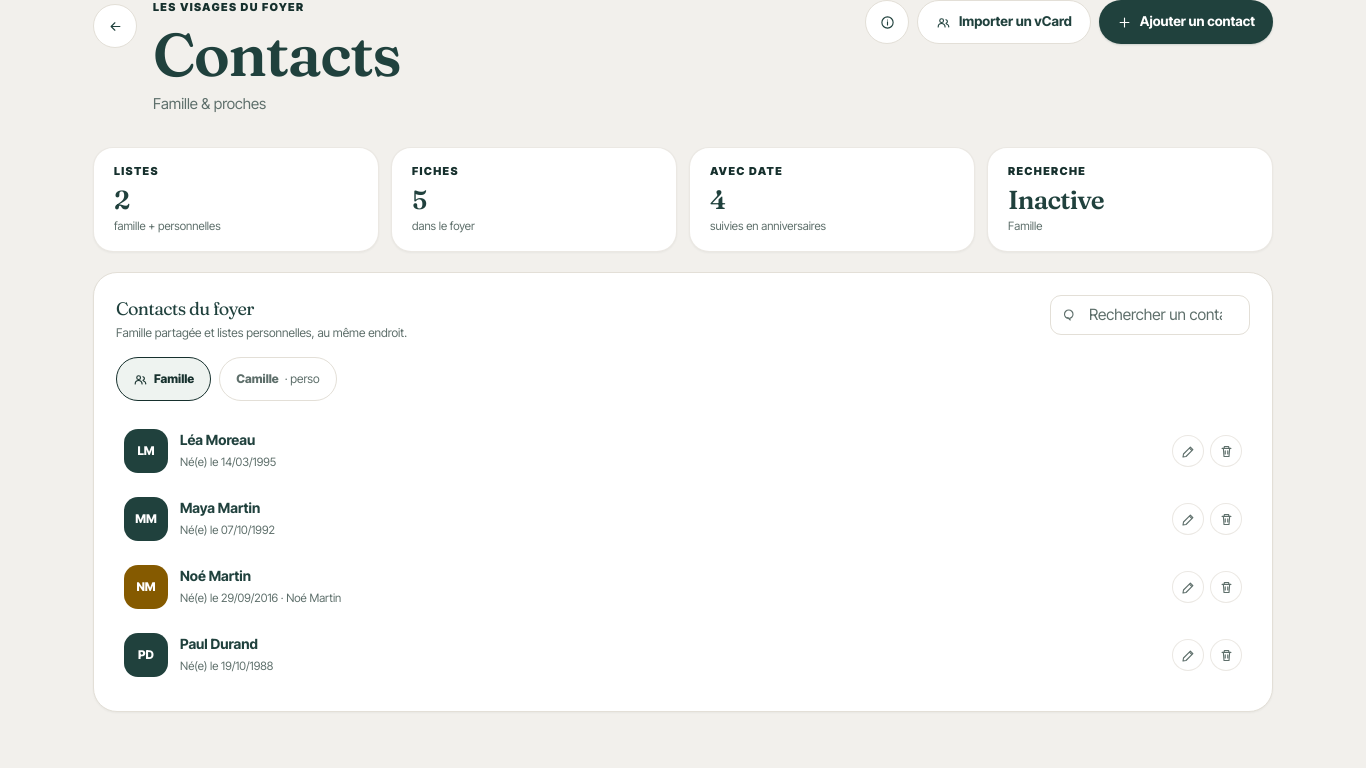
Test case: ContactsPage › avertit d’un doublon probable sans bloquer la soumission
Expected: the text "Maya Martin" is shown, [180,499,260,516]
Click the button "Ajouter un contact" at {"x": 1186, "y": 22}, box [1099,0,1273,44]
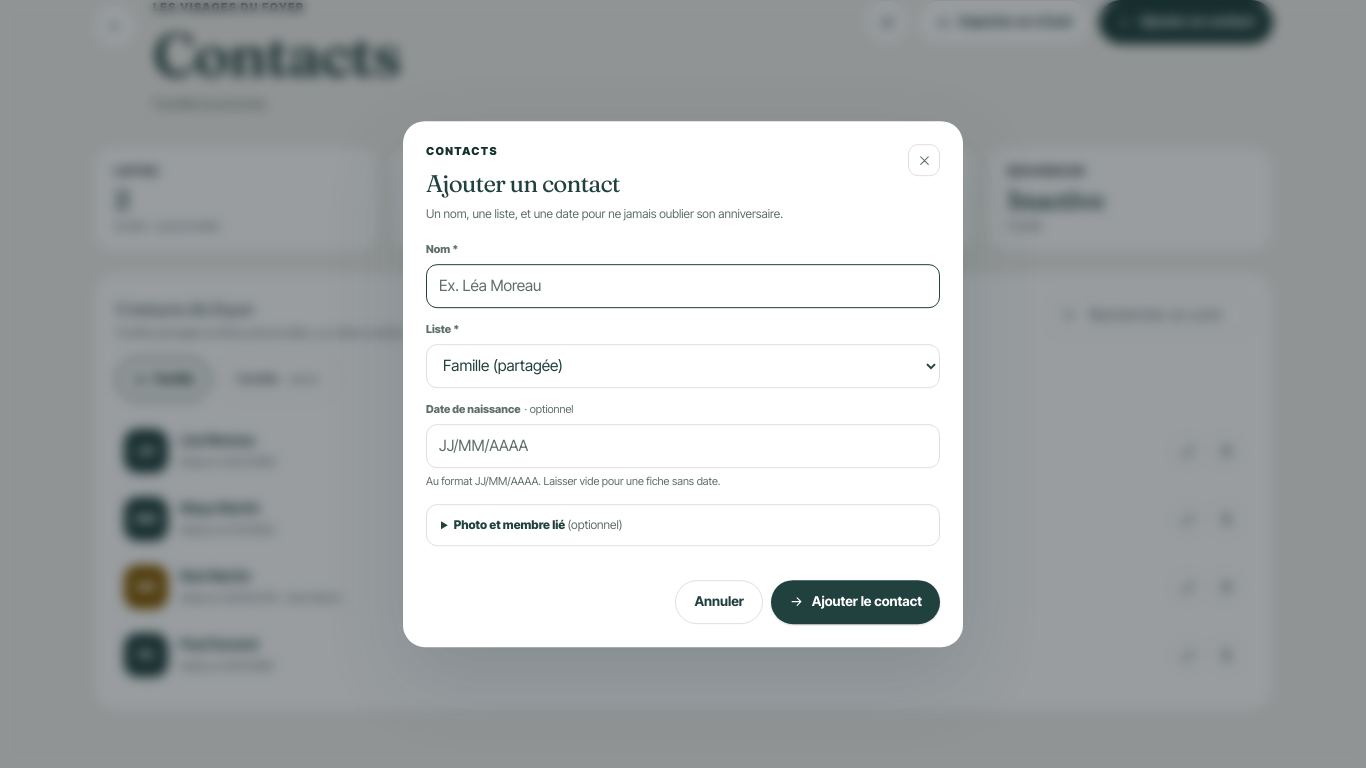
Type "Maya Martin" into the field labelled "Nom *" at {"x": 683, "y": 286}, box [426,264,940,308]
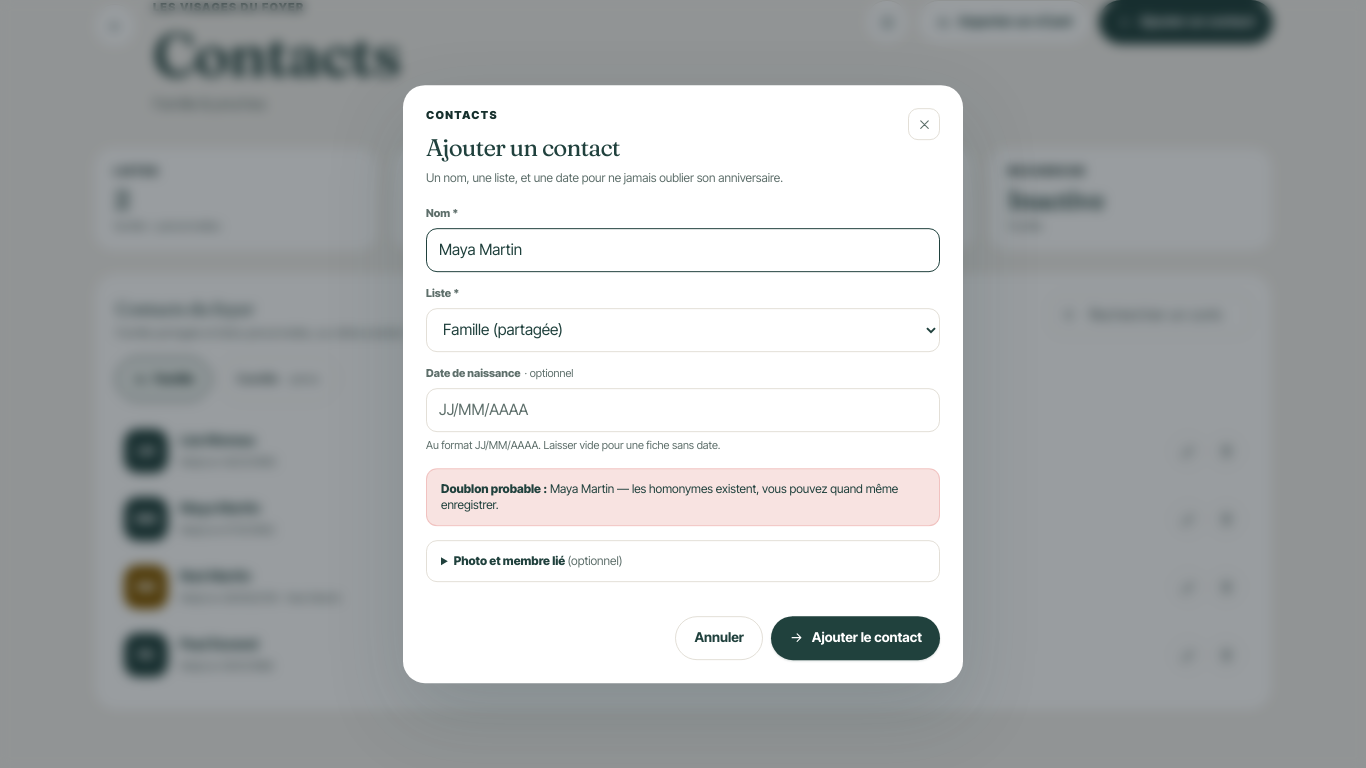
Type "07/10/1992" into the field labelled "Date de naissance· optionnel" at {"x": 683, "y": 410}, box [426,388,940,432]
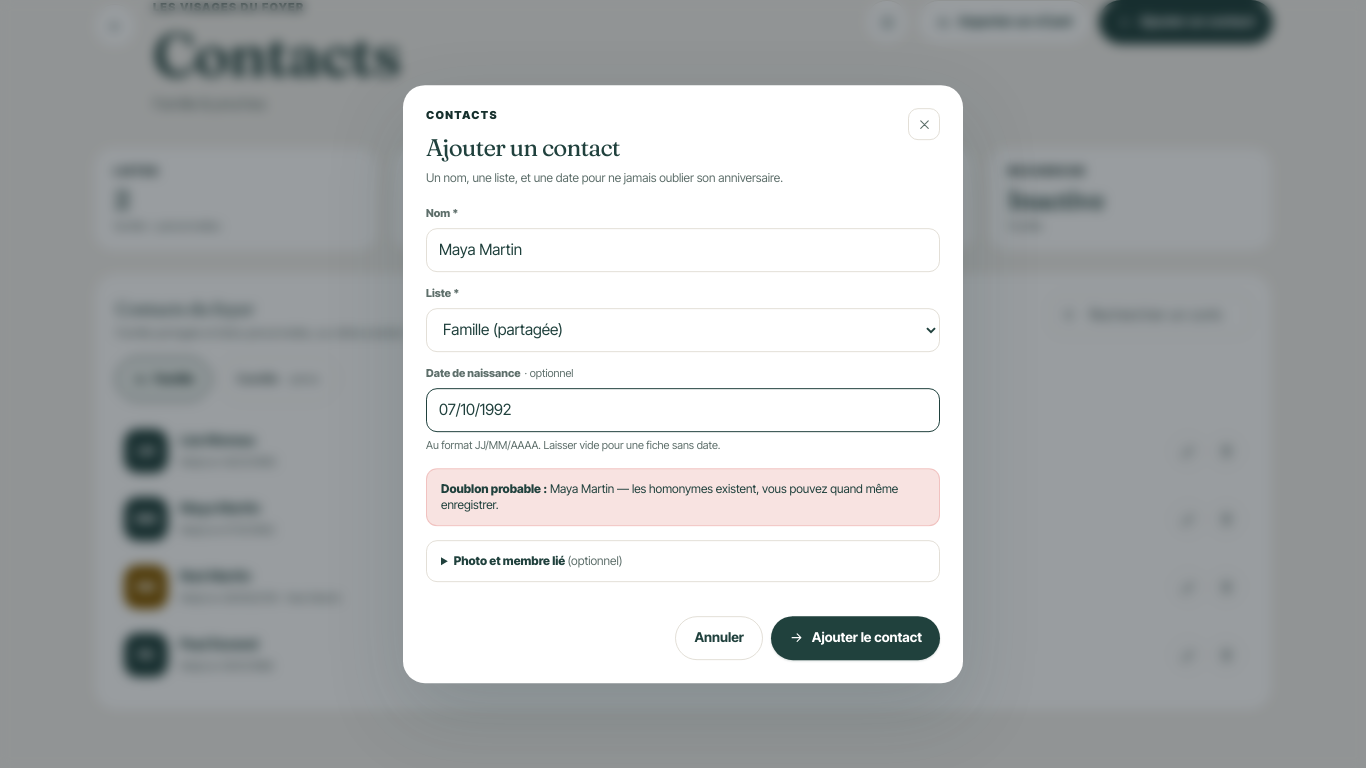
Now the message shows "Doublon probable", box [441,481,547,496]
Click the button "Ajouter le contact" at {"x": 855, "y": 638}, box [771,616,940,660]
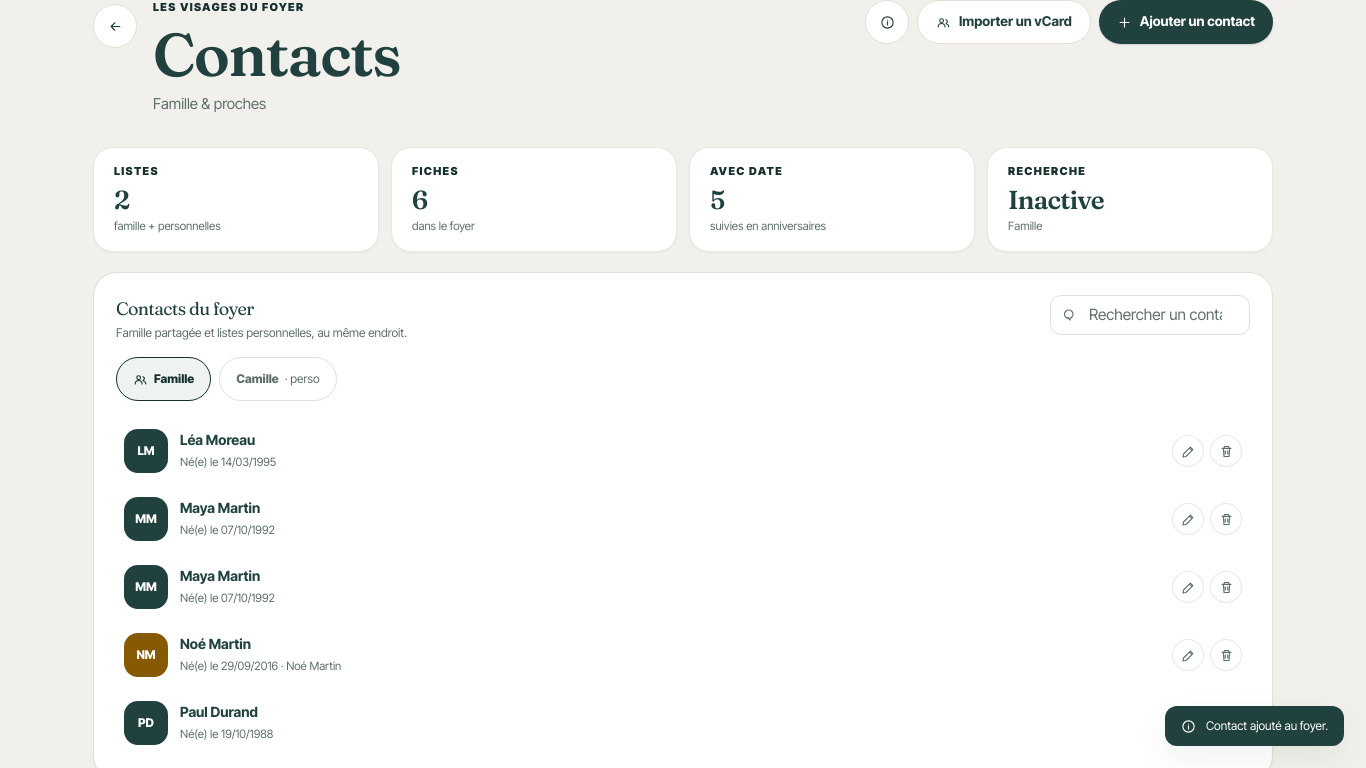
Now the text "Maya Martin" is shown 2 times, box [180,499,260,516]; [180,567,260,584]
